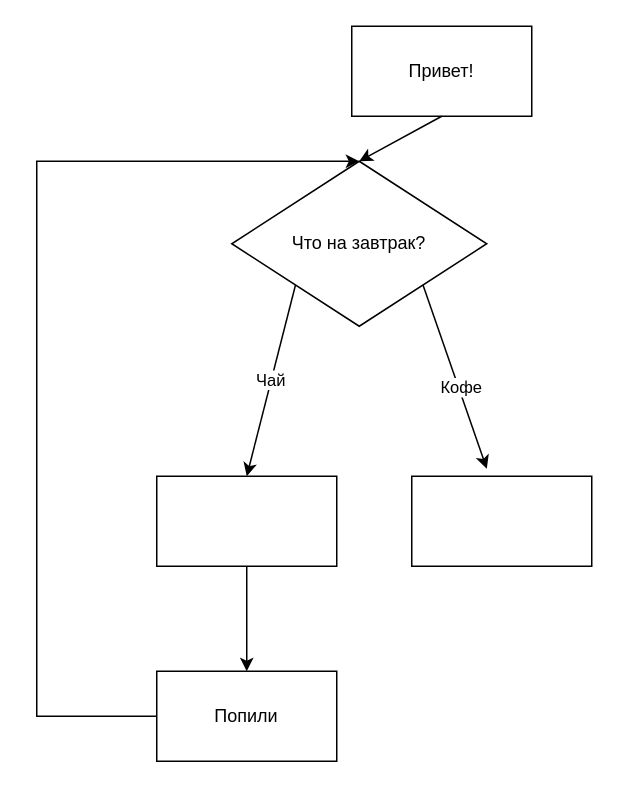
Image size: 618x788. Some labels were removed from this diagram. The shapes that lost their labels are listed below. From the top down, each one's centre as x and y in pixels, then its label:
[246,520]: Кофе лучше
[501,520]: Чай лучше
